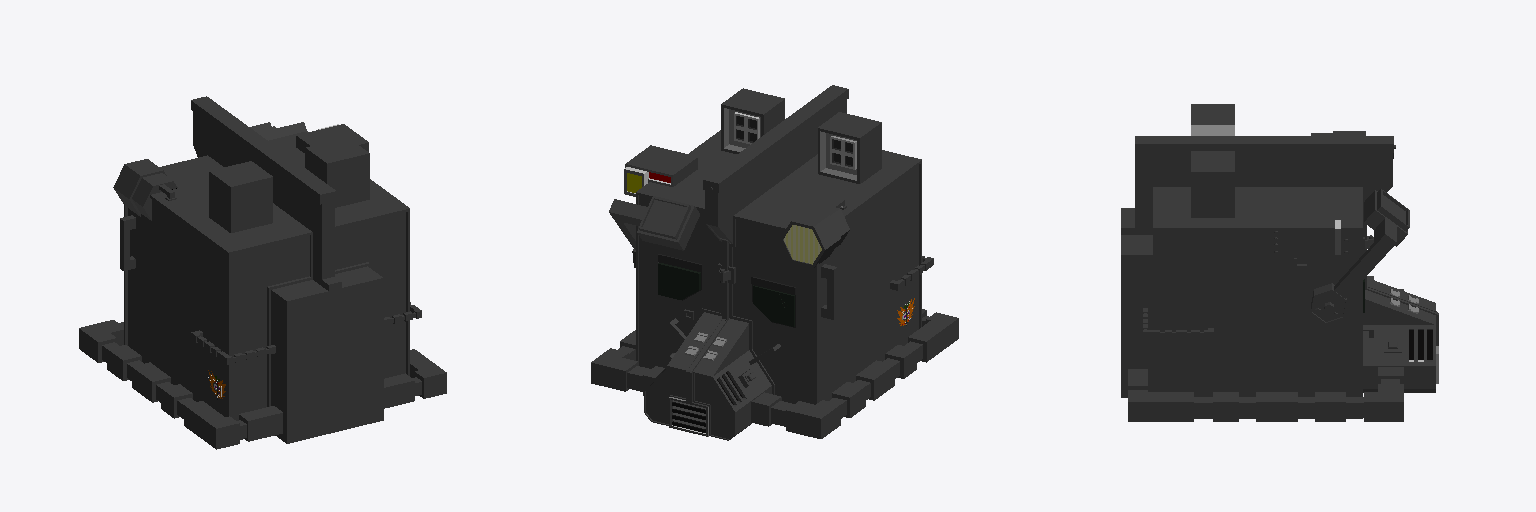
File: t60head.obj
3 views of the same model, side by side, from view 1: azimuth 30°, elevation 25°; view 2: azimuth 150°, elevation 25°; view 3: azimuth 270°, elevation 25° (orthographic).
Visible parts, largest first — view 1: Mesh03_Mesh03.001, TubeR2_TubeR2.001, TubeR1_TubeR1.001, Group3_Group3.001, TubeR3_TubeR3.001, Mesh05_Mesh05.001; view 2: Mesh03_Mesh03.001, TubeR2_TubeR2.001, Group3_Group3.001, TubeR1_TubeR1.001, Mesh05_Mesh05.001; view 3: Mesh03_Mesh03.001, TubeR1_TubeR1.001, TubeR4_TubeR4.001.
Part boxes in pixels (left/top/right/bottom): Mesh03_Mesh03.001: left=124, top=96, right=409, bottom=443; TubeR2_TubeR2.001: left=79, top=320, right=414, bottom=449; TubeR1_TubeR1.001: left=239, top=349, right=446, bottom=441; Group3_Group3.001: left=113, top=159, right=177, bottom=220; TubeR3_TubeR3.001: left=191, top=330, right=275, bottom=364; Mesh05_Mesh05.001: left=120, top=215, right=135, bottom=270; Mesh03_Mesh03.001: left=609, top=85, right=921, bottom=440; TubeR2_TubeR2.001: left=751, top=312, right=958, bottom=438; Group3_Group3.001: left=780, top=204, right=849, bottom=267; TubeR1_TubeR1.001: left=591, top=309, right=926, bottom=395; Mesh05_Mesh05.001: left=821, top=264, right=837, bottom=319; Mesh03_Mesh03.001: left=1121, top=104, right=1438, bottom=418; TubeR1_TubeR1.001: left=1128, top=367, right=1403, bottom=421; TubeR4_TubeR4.001: left=1143, top=308, right=1213, bottom=338.
Size of the model in its own units: 1.21 by 1.18 by 1.44.